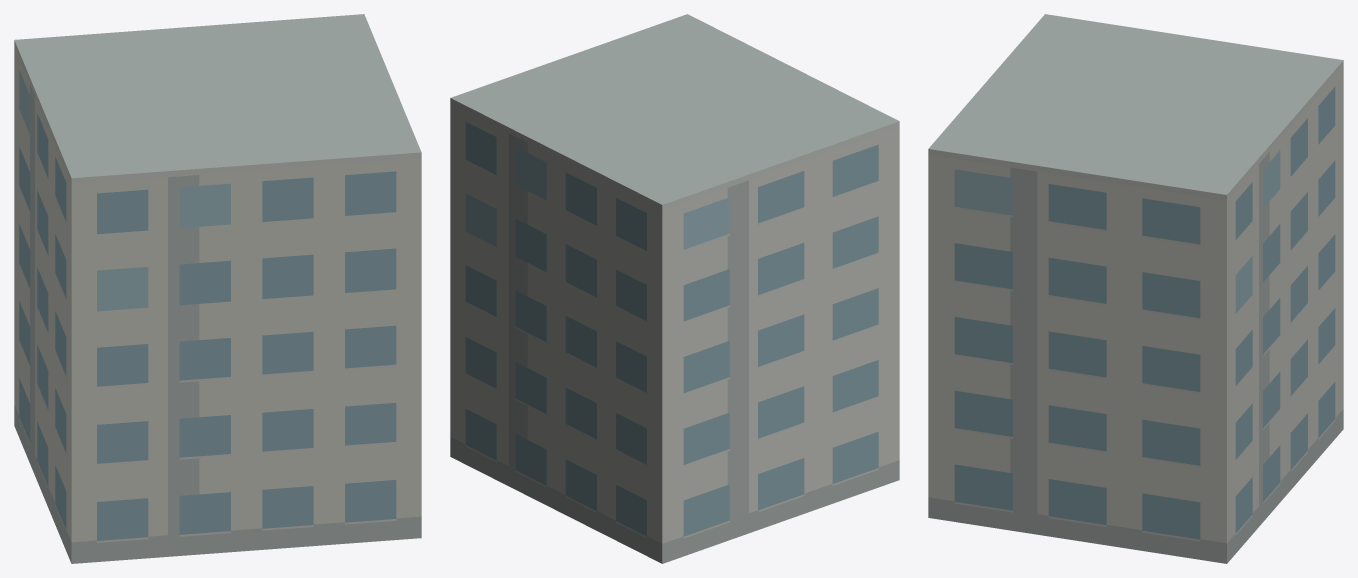
Rendered from residential-95ea278a-7b85-4b06-9b97-2ccf803ea1b6.glb.
The picture shows the model from 3 angles, left to right: view 1: azimuth 30°, elevation 25°; view 2: azimuth 150°, elevation 25°; view 3: azimuth 270°, elevation 25°; orthographic projection. The views are drawn at different scales.
Visible parts, largest first — view 1: residential-95ea278a-7b85-4b06-9b97-2ccf803ea1b6.tmp; view 2: residential-95ea278a-7b85-4b06-9b97-2ccf803ea1b6.tmp; view 3: residential-95ea278a-7b85-4b06-9b97-2ccf803ea1b6.tmp.
Part boxes in pixels (x1,y1,x2,y2): residential-95ea278a-7b85-4b06-9b97-2ccf803ea1b6.tmp: (14, 14, 421, 563); residential-95ea278a-7b85-4b06-9b97-2ccf803ea1b6.tmp: (450, 14, 899, 563); residential-95ea278a-7b85-4b06-9b97-2ccf803ea1b6.tmp: (928, 14, 1343, 563).
Bounding box in the file's own units: 16.06 × 15.25 × 15.57.
